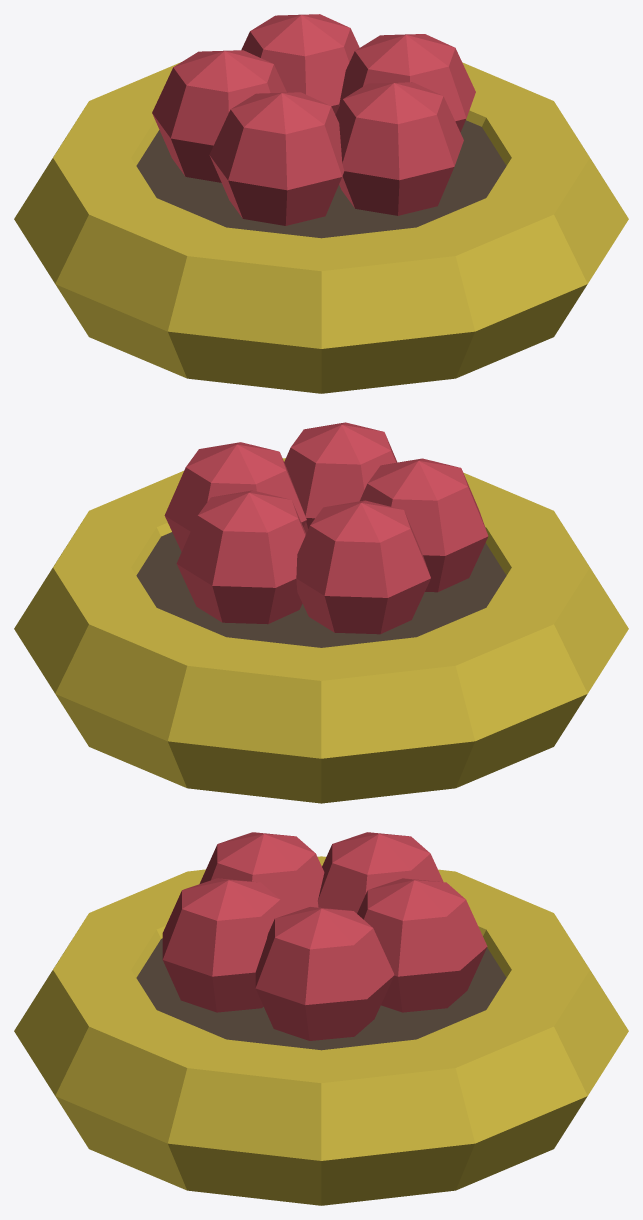
The model's file is tyre_planter.glb.
3 renders of one model, top to bottom at view 1: azimuth 30°, elevation 25°; view 2: azimuth 150°, elevation 25°; view 3: azimuth 270°, elevation 25°, orthographic.
Visible parts, largest first — view 1: tyre_planter; view 2: tyre_planter; view 3: tyre_planter.
Part boxes in pixels (x1,y1,x2,y2): tyre_planter: [14, 14, 628, 393]; tyre_planter: [14, 422, 628, 803]; tyre_planter: [14, 832, 628, 1205].
Size of the model in its own units: 0.63 by 0.2543 by 0.63.
